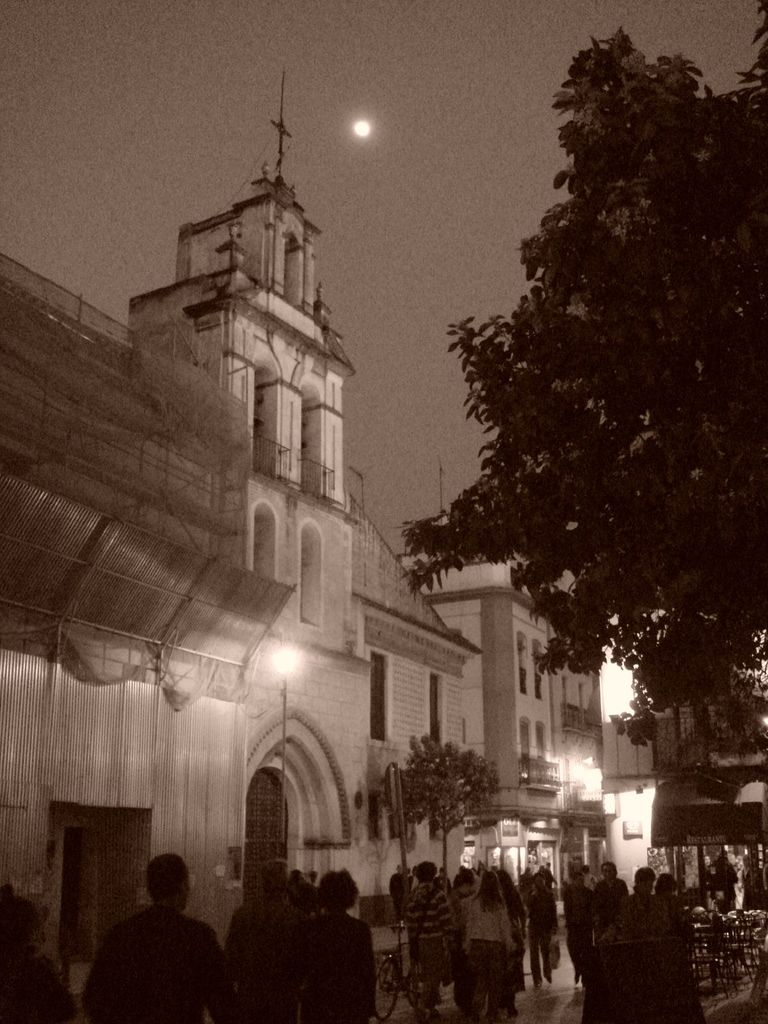Tree: (337, 0, 742, 933)
